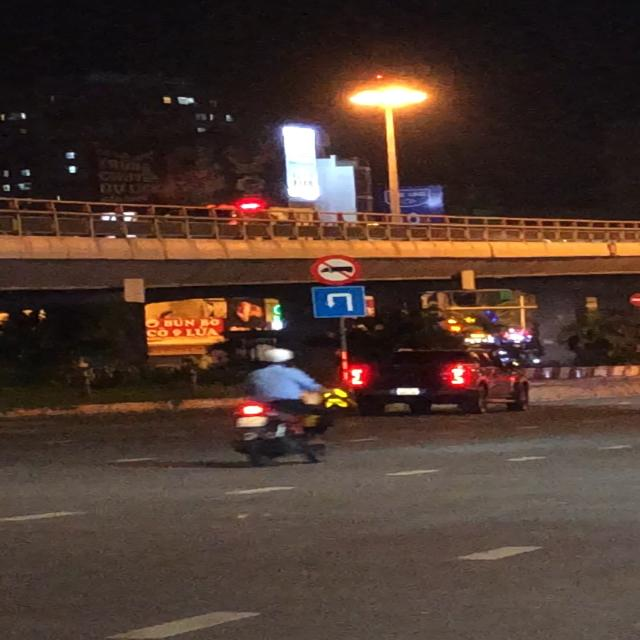Bien bao cam xe so-mi ro-mooc: (306, 254, 361, 286)
